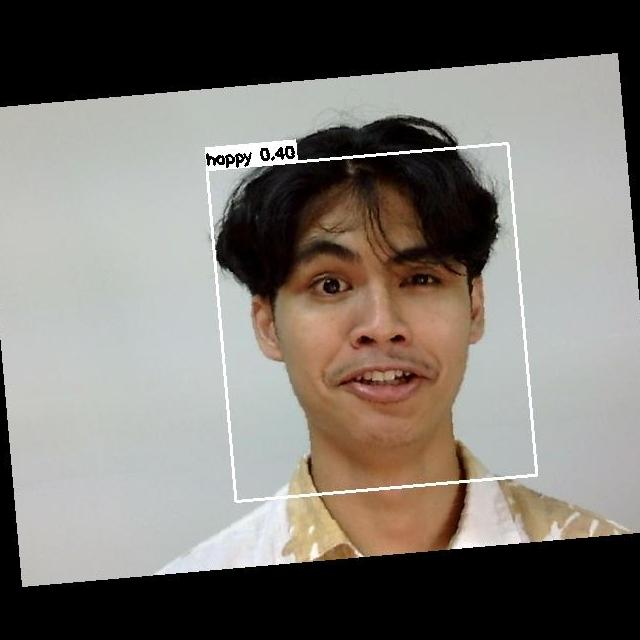Fear: (268, 211, 498, 430)
